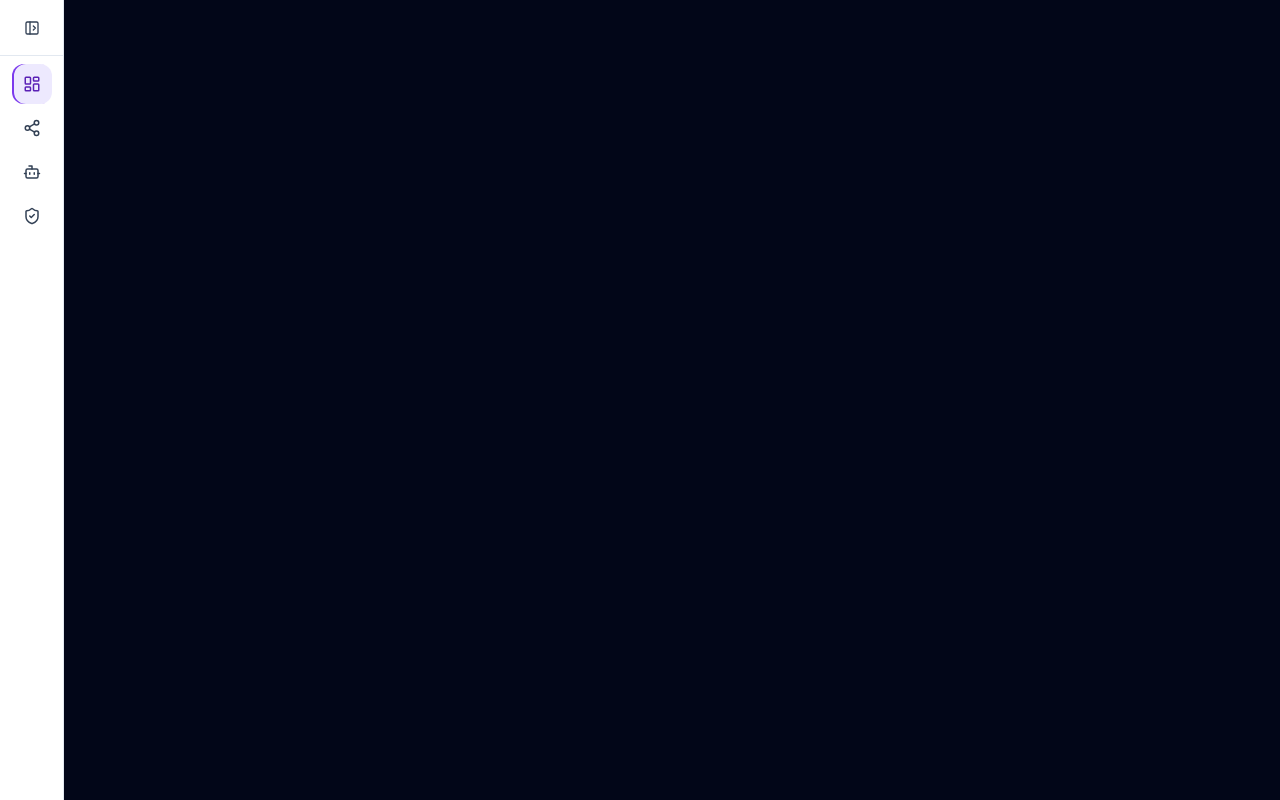
Test case: rail mode › opens a flyout with the section's items and subheadings; Esc closes it and returns focus to the icon
Click the button named "Administration" at (32, 216), box 12,196 -> 52,236
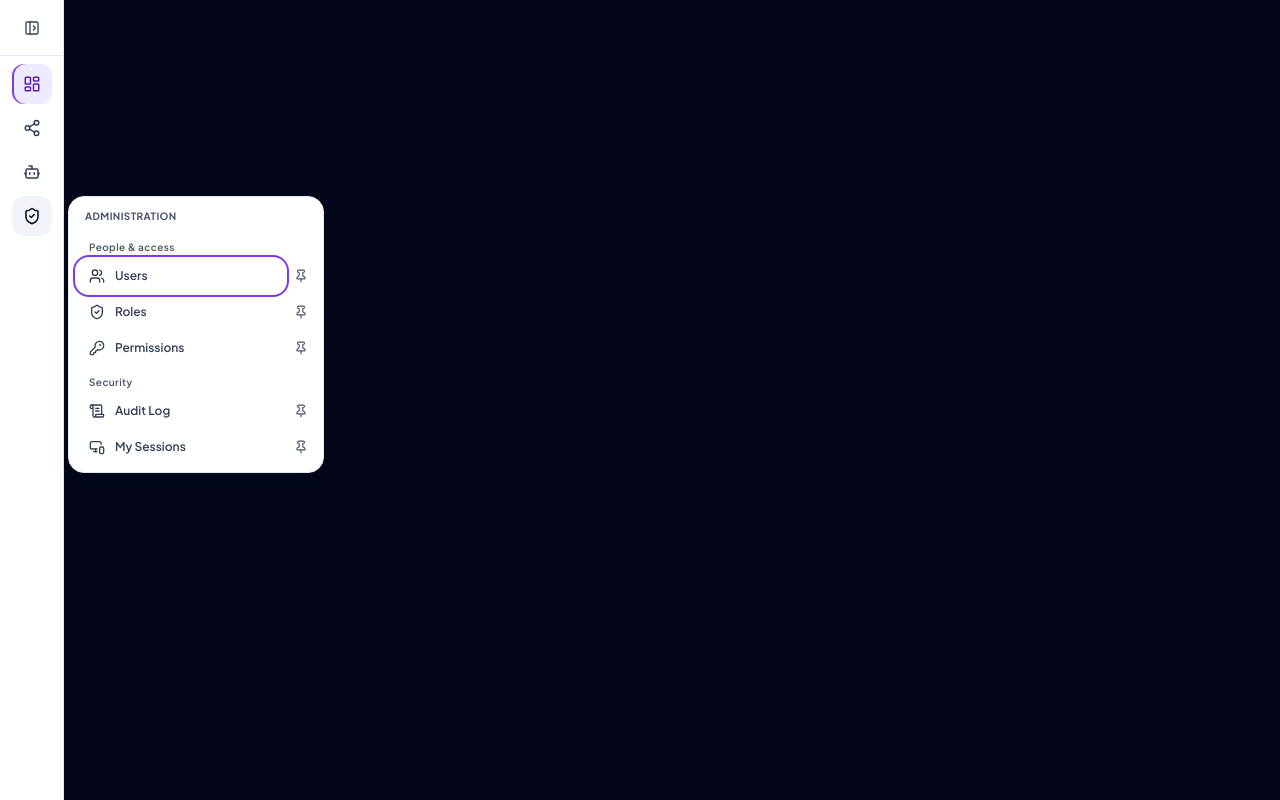
expect the button named "Administration" is expanded: met, box 12,196 -> 52,236
expect the text "People & access" is shown: met, box 89,241 -> 175,253
expect the text "Security" is shown: met, box 89,376 -> 132,388
Press Escape
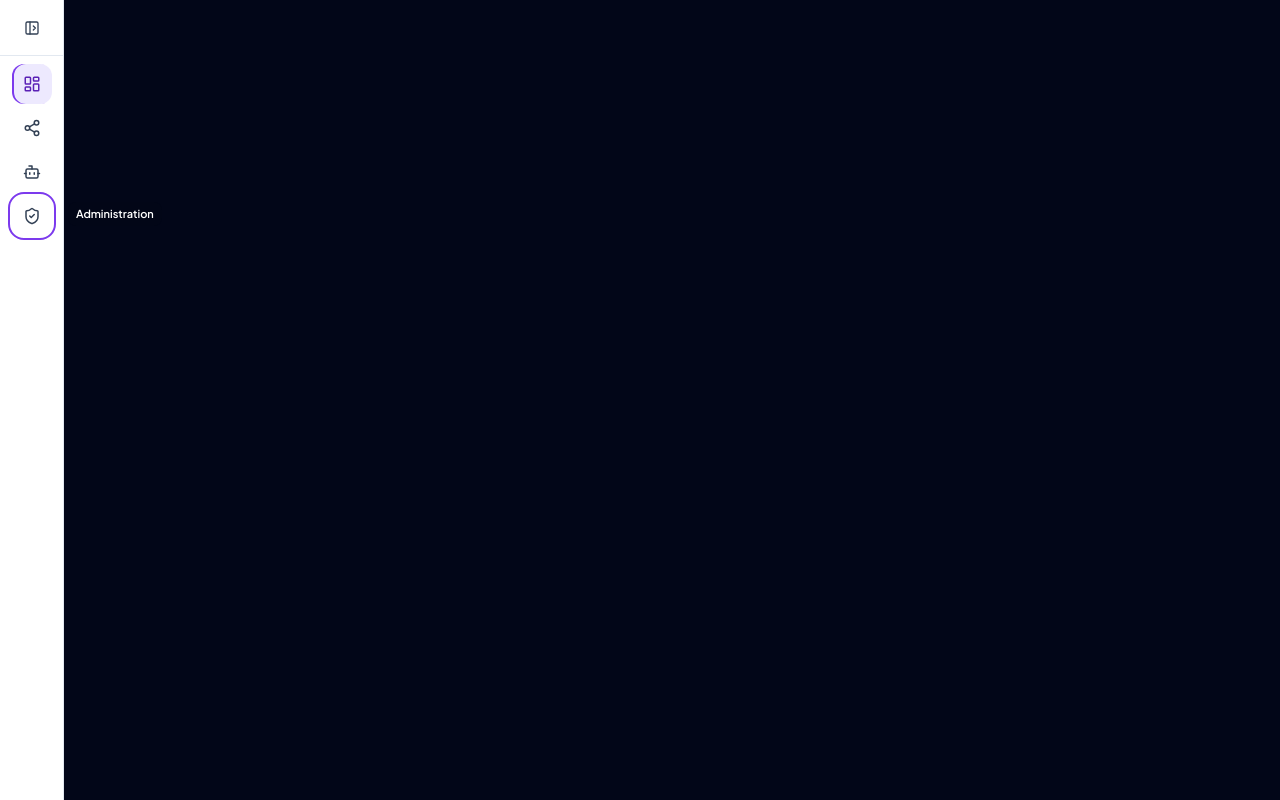
expect the dialog is gone: met
